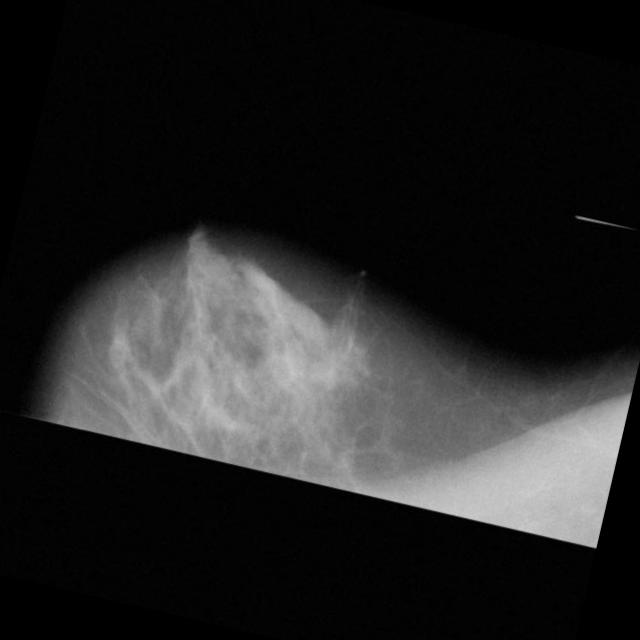ARCH: (306, 296, 378, 368)
